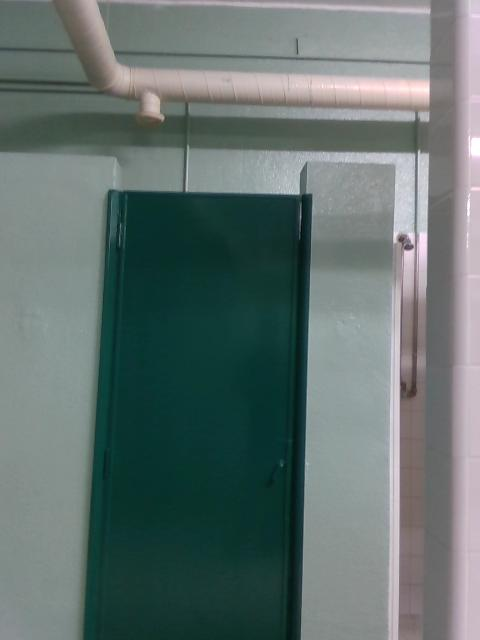door: (99, 189, 301, 640)
